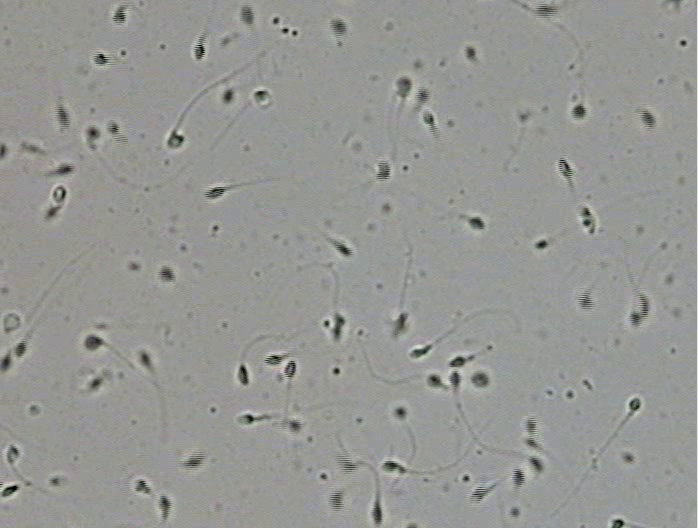S: (580, 207, 596, 234), (337, 455, 357, 474), (55, 105, 70, 130), (558, 157, 573, 181), (392, 313, 407, 336), (329, 18, 347, 37), (158, 494, 171, 520), (328, 490, 344, 511), (332, 241, 353, 257), (638, 293, 650, 320), (332, 315, 345, 339), (639, 110, 656, 128), (577, 292, 594, 310), (396, 78, 412, 97), (511, 468, 526, 488), (535, 4, 557, 17), (239, 6, 254, 25), (84, 335, 103, 350), (184, 454, 203, 469), (376, 161, 391, 180), (204, 186, 225, 199), (167, 132, 184, 148), (470, 487, 487, 503), (371, 502, 382, 526), (472, 372, 489, 387), (92, 52, 110, 66), (448, 370, 461, 389), (112, 8, 127, 24), (416, 88, 431, 104), (528, 455, 542, 472), (193, 42, 206, 60), (284, 360, 297, 378), (6, 445, 19, 463), (467, 217, 485, 230), (238, 364, 249, 385), (571, 104, 586, 119), (1, 484, 18, 497), (53, 185, 66, 202), (525, 416, 537, 434), (629, 310, 641, 327), (55, 164, 73, 175), (264, 354, 282, 365), (411, 347, 429, 358), (159, 268, 174, 281), (14, 342, 27, 357), (381, 461, 397, 473), (423, 110, 435, 126), (427, 374, 441, 387), (85, 127, 100, 139), (449, 356, 465, 367), (253, 90, 267, 102), (108, 121, 120, 135), (46, 206, 60, 218), (87, 378, 101, 390), (222, 89, 233, 104), (238, 414, 254, 424), (288, 420, 301, 432), (140, 353, 151, 367), (134, 479, 146, 491), (629, 398, 641, 410), (465, 46, 476, 59), (1, 356, 11, 370), (534, 239, 548, 249), (394, 407, 406, 418), (525, 436, 536, 447), (613, 519, 624, 528), (1, 145, 6, 158)
